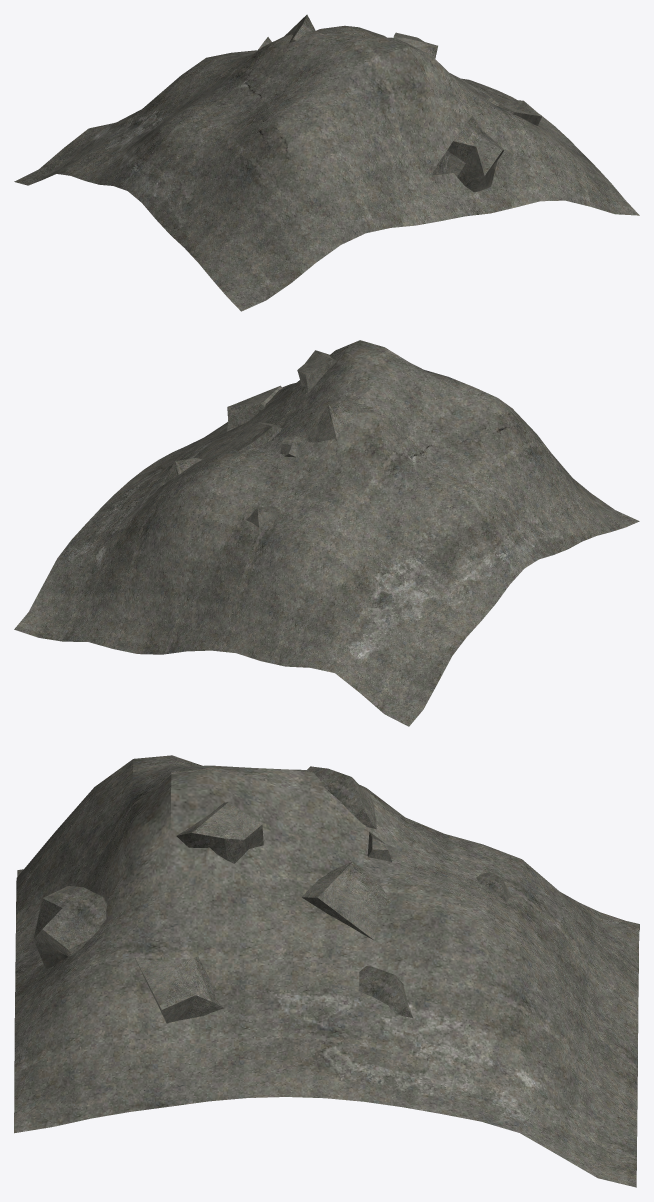
The model's file is Prop_debris_03b.fbx.
3 views of the same model, one above another, from view 1: azimuth 30°, elevation 25°; view 2: azimuth 150°, elevation 25°; view 3: azimuth 270°, elevation 25° (orthographic). The views are drawn at different scales.
Parts seen in each view (by area): view 1: Cube_016; view 2: Cube_016; view 3: Cube_016.
Part boxes in pixels (bbox=[...]): Cube_016: bbox=[14, 14, 639, 311]; Cube_016: bbox=[14, 340, 639, 726]; Cube_016: bbox=[14, 755, 639, 1187].
Bounding box in the file's own units: 7.68 × 3.89 × 7.68.
